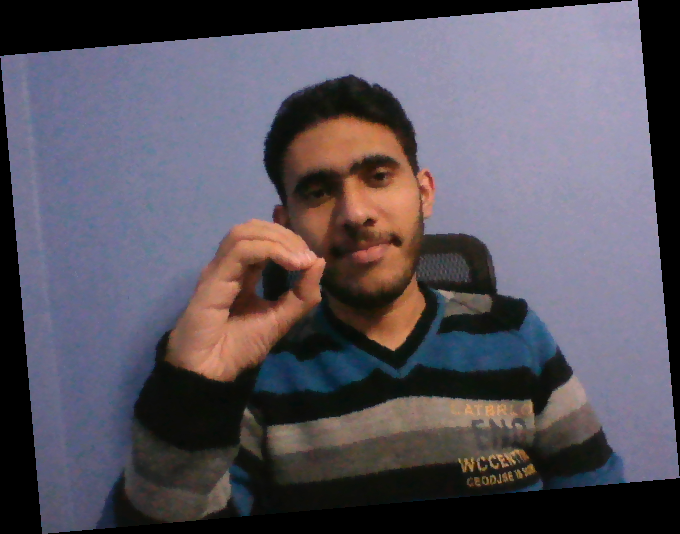O: (164, 211, 332, 390)
